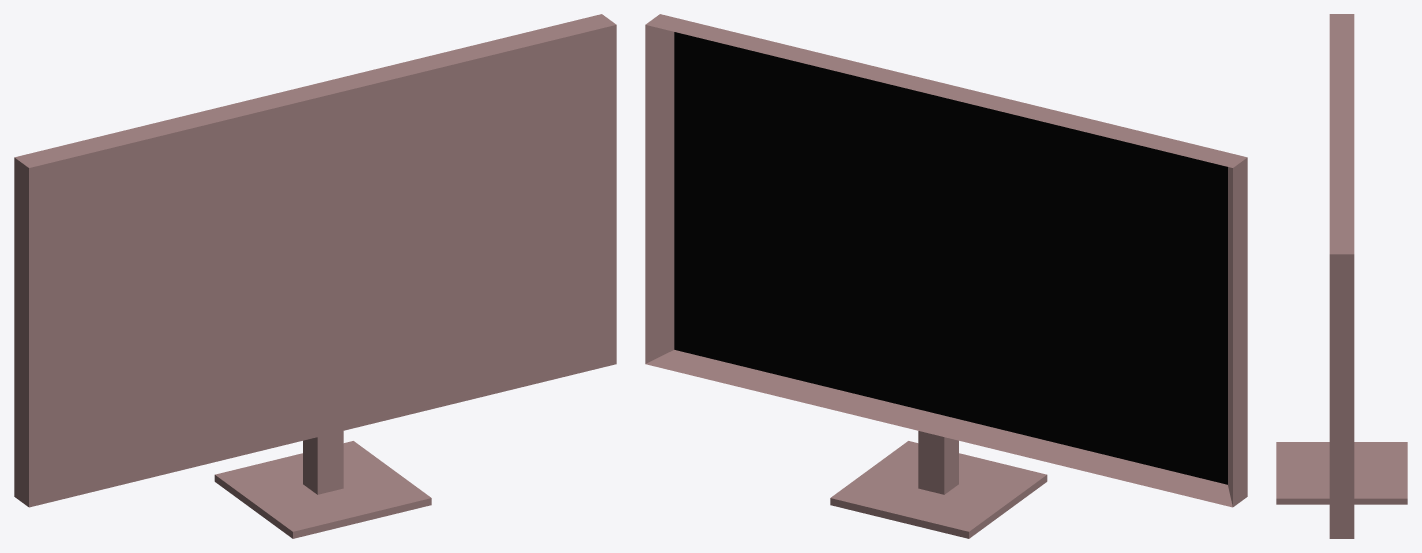
3 views of the same model, side by side, from view 1: azimuth 30°, elevation 25°; view 2: azimuth 150°, elevation 25°; view 3: azimuth 270°, elevation 25° (orthographic). The views are drawn at different scales.
Visible parts, largest first — view 1: tv1; view 2: tv1; view 3: tv1.
Part boxes in pixels (box(x1,y1,x2,y2)): tv1: box(14, 14, 616, 538); tv1: box(645, 14, 1247, 538); tv1: box(1276, 14, 1407, 538).
Size of the model in its own units: 165 by 108 by 37.99.
